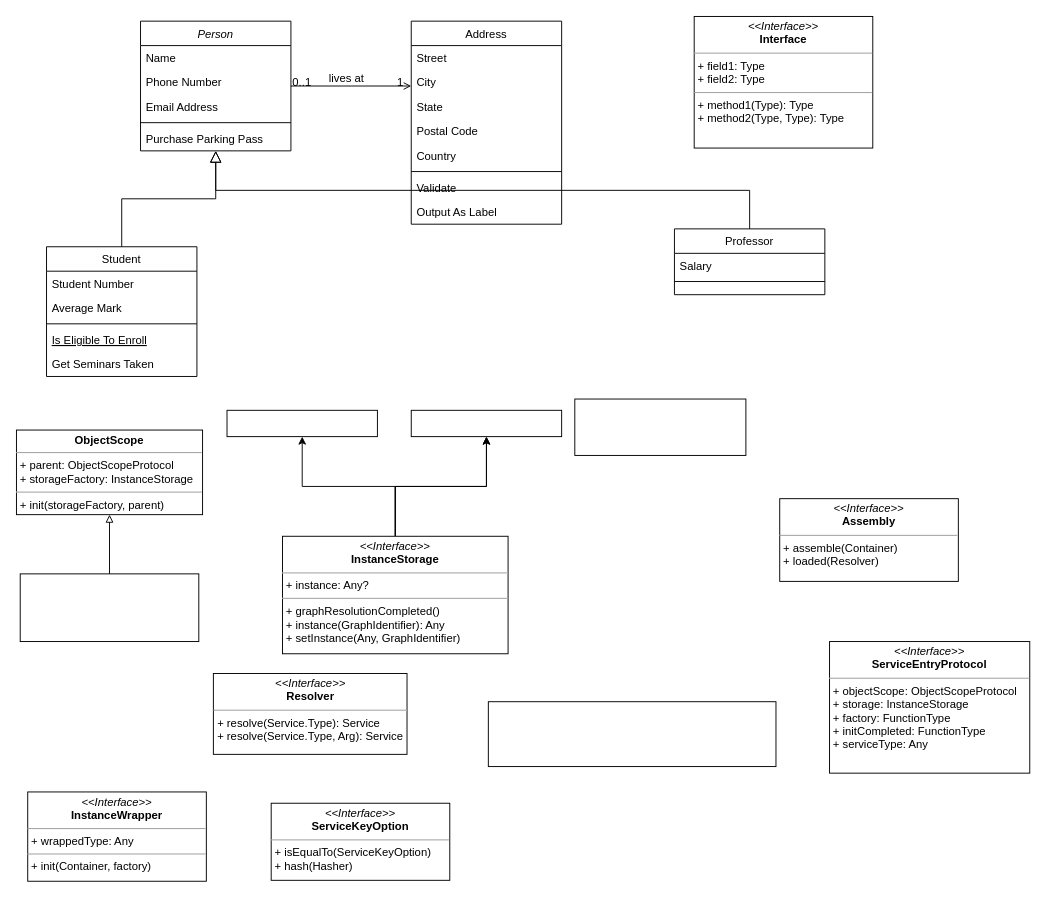
Image size: 1046x898. Some labels were removed from this diagram. The centre of each missing label's shape, as x and y in pixels:
"<<Interface>> Behavior + container(Container, Type, ServiceEntry, String)" goes at point 631,734.
"<<Interface>> ObjectScopeProtocol + makeStorage(): InstanceStorage" goes at point 109,607.
"CompositeStorage + components: [InstanceStorage]" goes at point 660,426.
"GraphStorage" goes at point 301,423.
"WeakStorage" goes at point 486,423.
